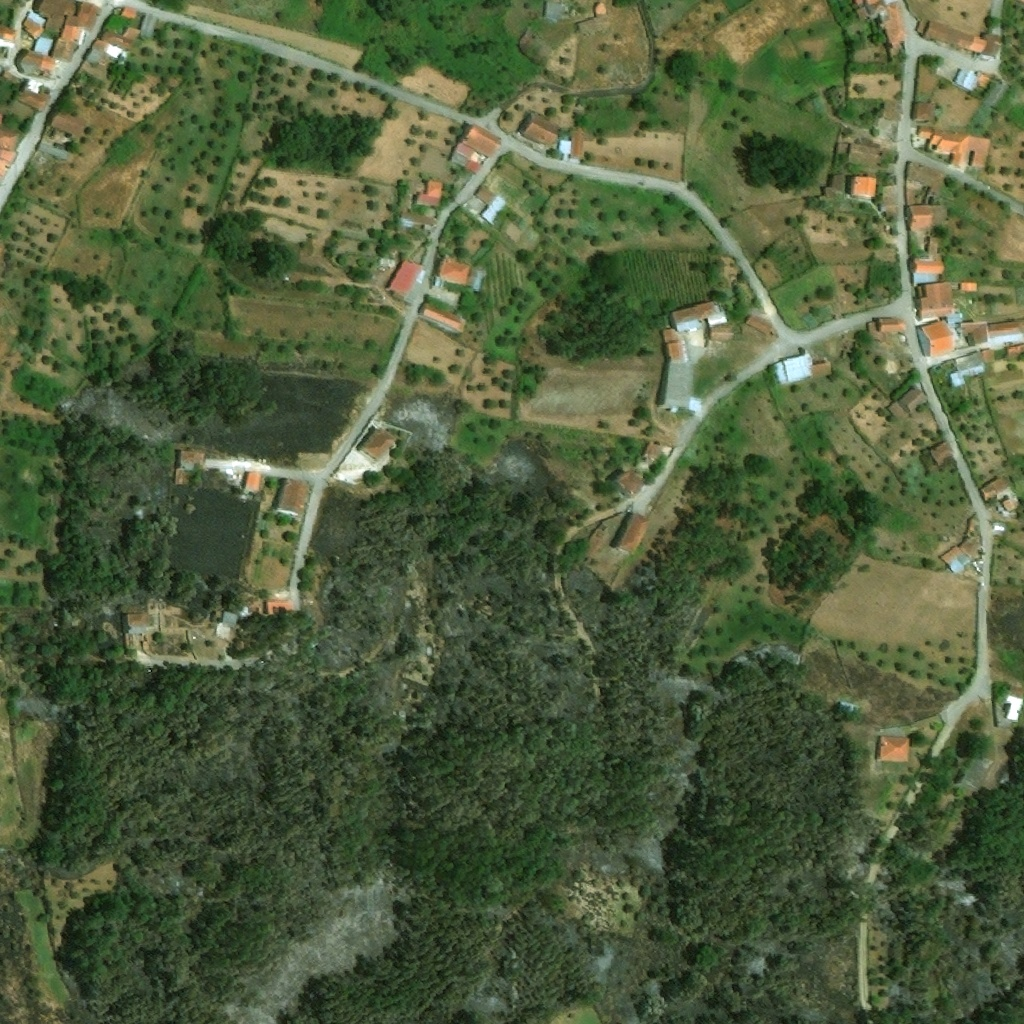0 no-damage: (661, 326, 709, 413), (914, 19, 1001, 62), (854, 0, 907, 65), (915, 126, 989, 170), (49, 3, 101, 62), (448, 124, 502, 173), (83, 27, 141, 68), (774, 349, 832, 384), (514, 110, 562, 150), (669, 300, 728, 332), (387, 259, 426, 307), (399, 179, 435, 229), (908, 237, 945, 285), (904, 189, 948, 229), (270, 478, 312, 519), (952, 752, 995, 791), (354, 423, 396, 462), (915, 281, 956, 319), (419, 301, 467, 333), (43, 110, 88, 144), (614, 512, 650, 553), (886, 387, 928, 422), (992, 681, 1023, 728), (32, 0, 77, 32), (432, 257, 477, 289), (12, 47, 56, 79), (916, 320, 953, 358), (905, 162, 945, 196), (947, 352, 984, 388), (939, 546, 983, 576), (119, 609, 151, 649), (576, 0, 612, 34), (836, 143, 883, 169), (947, 314, 987, 344), (17, 78, 50, 112), (520, 28, 554, 61), (174, 452, 205, 486), (952, 69, 991, 94), (559, 127, 584, 164), (867, 318, 905, 342), (578, 531, 605, 562), (877, 737, 909, 763), (616, 469, 645, 497), (980, 477, 1011, 503), (479, 196, 507, 224), (20, 11, 46, 40), (35, 141, 71, 161), (743, 313, 774, 336), (818, 175, 844, 202), (981, 80, 1007, 106), (926, 440, 953, 465), (846, 176, 876, 198), (879, 186, 898, 220), (0, 149, 18, 184), (986, 320, 1023, 337), (911, 101, 940, 122), (421, 179, 442, 206), (263, 598, 294, 614), (240, 471, 260, 494), (211, 610, 237, 627), (475, 186, 496, 207), (958, 537, 980, 557), (0, 127, 19, 150), (835, 701, 859, 719), (643, 442, 664, 460), (0, 24, 16, 47), (140, 14, 155, 37), (881, 102, 900, 120), (34, 37, 54, 54), (710, 326, 733, 339), (1007, 345, 1023, 361), (1001, 499, 1020, 512), (120, 6, 137, 20), (981, 349, 995, 364), (381, 258, 396, 268), (240, 605, 252, 616), (969, 519, 975, 531)
4 un-classified: (543, 2, 568, 17), (0, 68, 14, 80), (0, 248, 5, 261), (0, 113, 3, 125)
